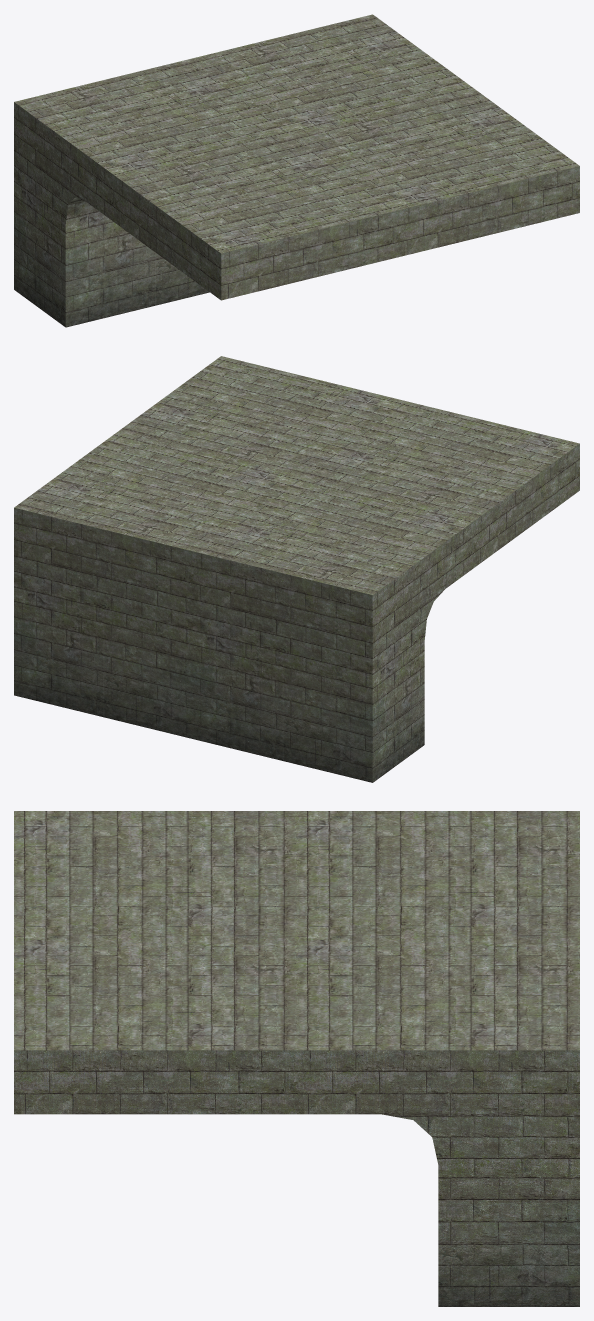
The model's file is rooffitting.fbx.
3 renders of one model, top to bottom at view 1: azimuth 30°, elevation 25°; view 2: azimuth 150°, elevation 25°; view 3: azimuth 270°, elevation 25°, orthographic. The views are drawn at different scales.
Visible parts, largest first — view 1: Mesh Object; view 2: Mesh Object; view 3: Mesh Object.
Boxes of the visible parts, box(x1,y1,x2,y2) form: Mesh Object: box(14, 14, 579, 327); Mesh Object: box(14, 356, 579, 782); Mesh Object: box(14, 811, 579, 1306).
Size of the model in its own units: 4 by 2 by 4.
